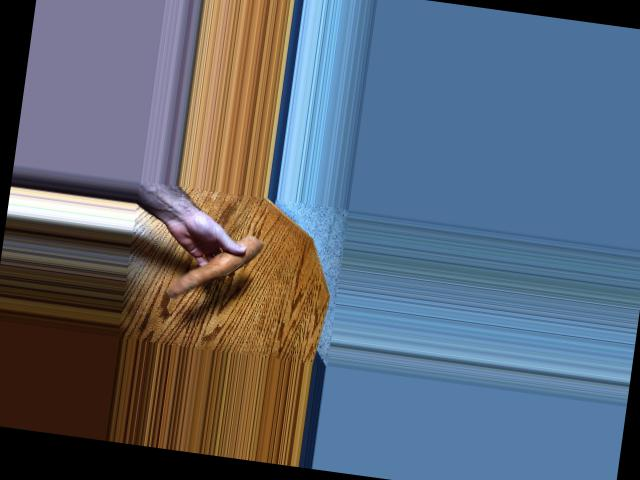sweet_potato: (167, 224, 256, 304)
